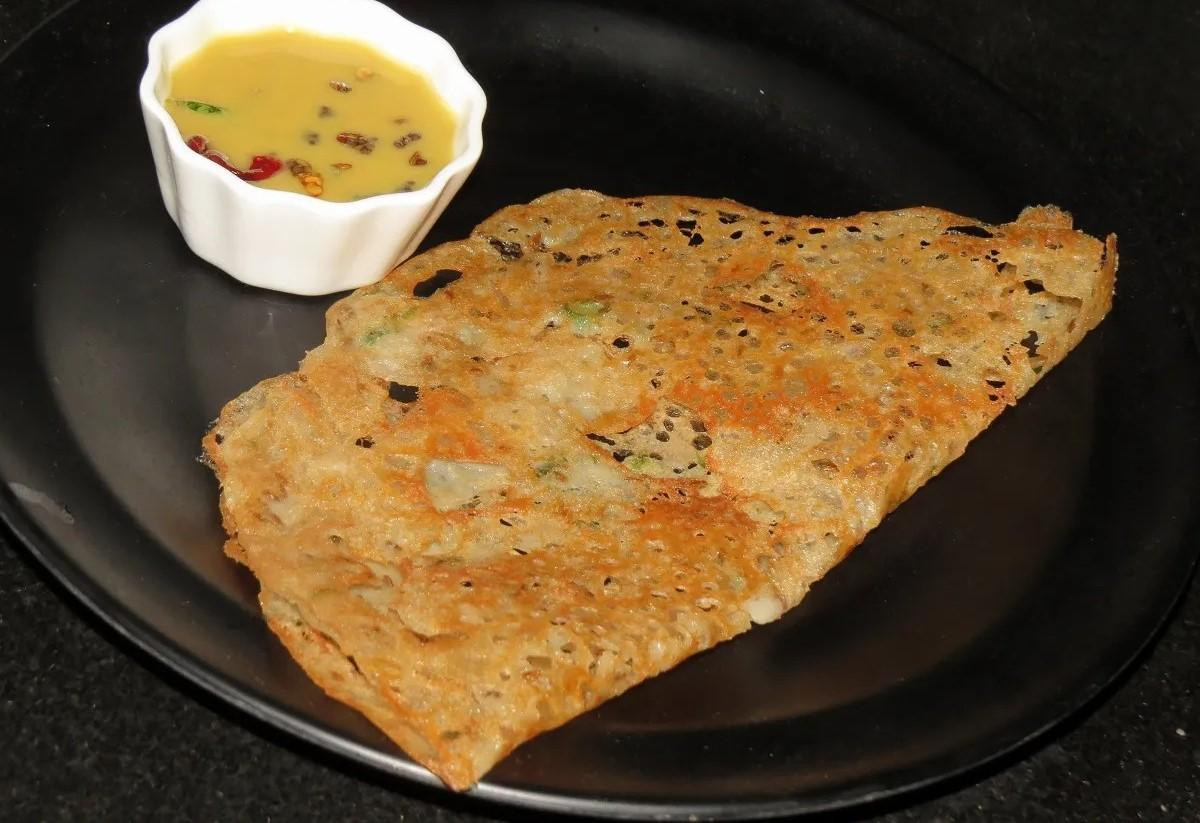Dosa: (207, 188, 1119, 790)
